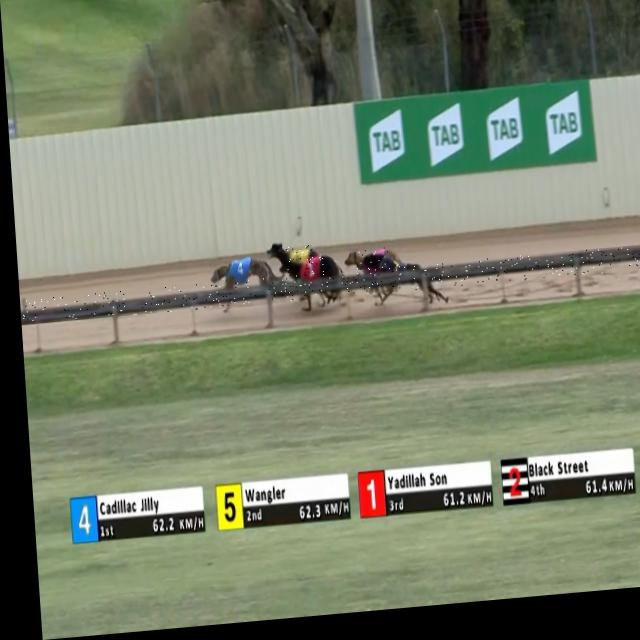dog_eight: (352, 254, 386, 285)
dog_five: (282, 250, 310, 278)
dog_one: (292, 263, 322, 299)
dog_seven: (379, 265, 408, 296), (225, 261, 249, 291)
rail: (17, 257, 640, 325)
